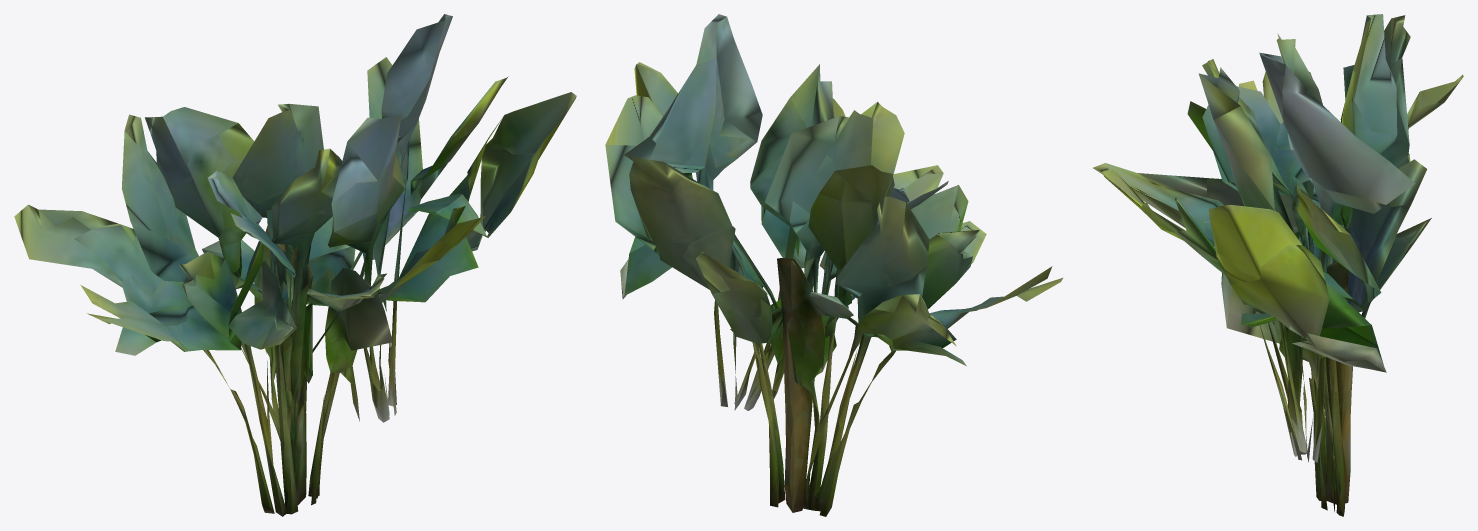
File: pisang_palsu_lod2.glb
The picture shows the model from 3 angles, left to right: view 1: azimuth 30°, elevation 25°; view 2: azimuth 150°, elevation 25°; view 3: azimuth 270°, elevation 25°; orthographic projection. The views are drawn at different scales.
Parts seen in each view (by area): view 1: tripo_node_df33864f-98e1-42ef-9705-bce9450db125; view 2: tripo_node_df33864f-98e1-42ef-9705-bce9450db125; view 3: tripo_node_df33864f-98e1-42ef-9705-bce9450db125.
Boxes of the visible parts, x1=… form: tripo_node_df33864f-98e1-42ef-9705-bce9450db125: x1=14, y1=14, x2=576, y2=516; tripo_node_df33864f-98e1-42ef-9705-bce9450db125: x1=605, y1=14, x2=1062, y2=516; tripo_node_df33864f-98e1-42ef-9705-bce9450db125: x1=1093, y1=14, x2=1463, y2=516.
Bounding box in the file's own units: 0.9978 × 0.9694 × 0.6374.
1 material, 1 textured.
